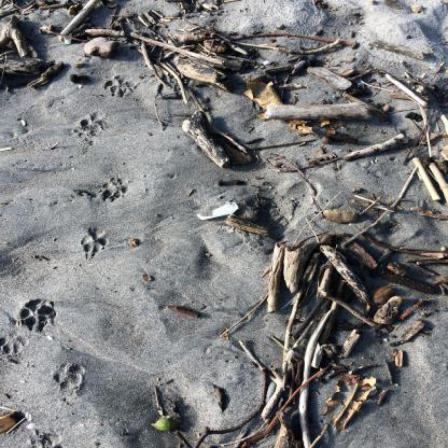Bottle cap: (64, 37, 72, 45)
Other plastic: (198, 203, 239, 222)
